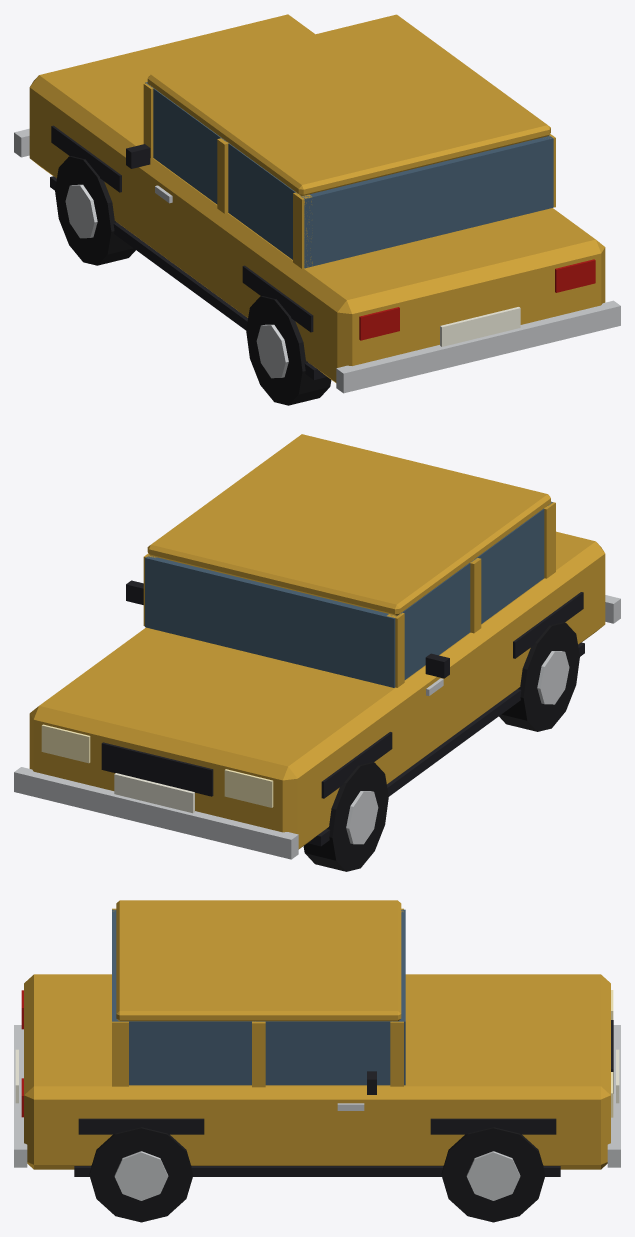
Rendered from car.hatch.glb.
3 renders of one model, top to bottom at view 1: azimuth 30°, elevation 25°; view 2: azimuth 150°, elevation 25°; view 3: azimuth 270°, elevation 25°, orthographic. The views are drawn at different scales.
Parts seen in each view (by area): view 1: body, roof, glass, bumper-back, wheel-11, wheel-1-1, sill, plate-back, hub-11, hub-1-1, arch-11, arch-1-1 (+5 smaller); view 2: body, roof, glass, bumper-front, wheel-1-1, wheel-11, grille, sill, plate-front, headlamp1, headlamp-1, hub-1-1 (+6 smaller); view 3: body, roof, glass, wheel1-1, wheel11, sill, hub1-1, hub11, arch1-1, arch11, bumper-back, bumper-front (+3 smaller).
Boxes of the visible parts, x1,y1,x2,y2 form: body: (29,14,605,382); roof: (147,14,550,195); glass: (145,82,553,268); bumper-back: (336,300,620,393); wheel-11: (246,296,331,405); wheel-1-1: (55,156,135,265); sill: (50,176,326,379); plate-back: (440,307,520,346); hub-11: (256,324,288,378); hub-1-1: (65,184,97,238); arch-11: (242,265,313,332); arch-1-1: (51,125,121,192); body: (29,531,605,849); roof: (147,434,550,615); glass: (145,501,552,687); bumper-front: (14,767,298,859); wheel-1-1: (303,762,388,871); wheel-11: (499,622,579,731); grille: (101,742,213,796); sill: (308,642,584,846); plate-front: (114,773,194,813); headlamp1: (41,724,90,763); headlamp-1: (224,769,273,807); hub-1-1: (346,791,378,844); body: (24,974,610,1169); roof: (116,900,401,1021); glass: (112,909,405,1085); wheel1-1: (441,1127,545,1222); wheel11: (89,1127,193,1222); sill: (74,1166,560,1176); hub1-1: (466,1151,520,1200); hub11: (114,1151,168,1200); arch1-1: (430,1118,556,1134); arch11: (78,1118,204,1134); bumper-back: (14,1025,27,1167); bumper-front: (607,1025,620,1167).
Size of the model in its own units: 2.02 by 1.34 by 3.62.
